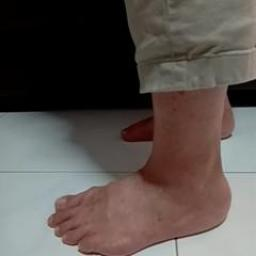Lateral View -Left Foot-: (21, 130, 255, 255)
